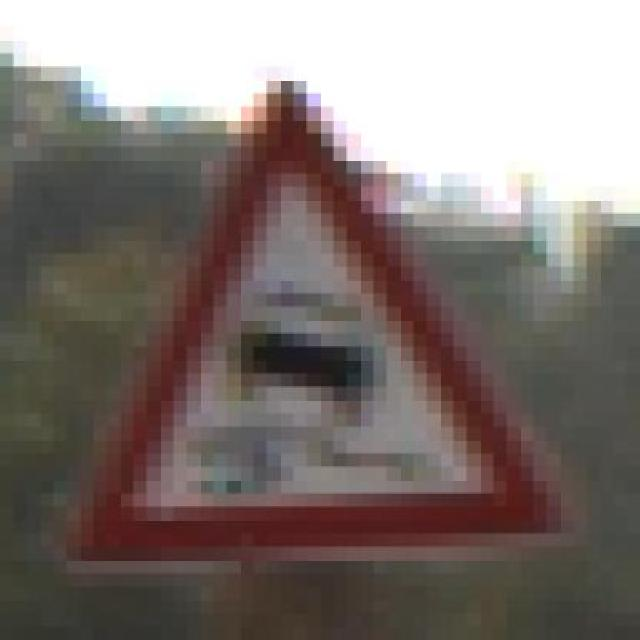Slippery Road Ahead: (55, 74, 562, 568)
